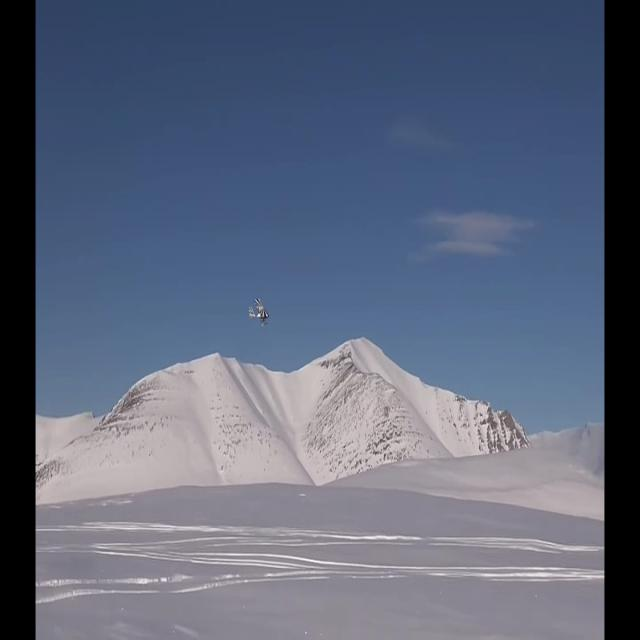iha: (249, 297, 270, 328)
